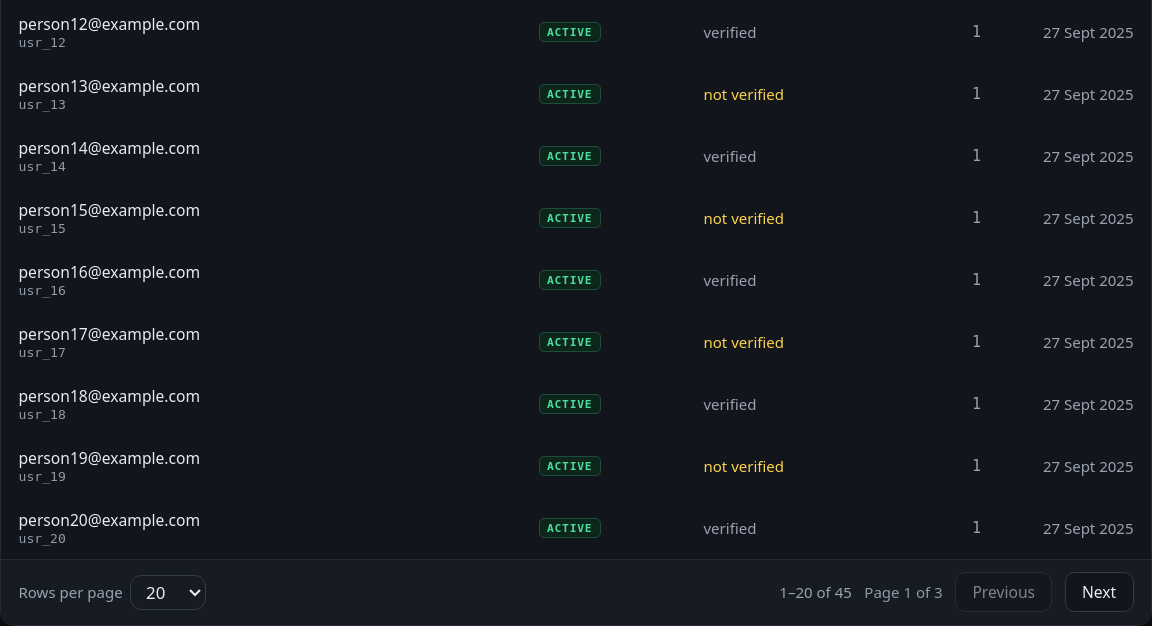
the user list › pages forward and back, and stops at the ends
(page scrolled)
Expected: the button "Previous" is disabled, x1=955 y1=572 x2=1052 y2=612
Click the button "Next".
click(1099, 592)  # box x1=1065 y1=572 x2=1134 y2=612
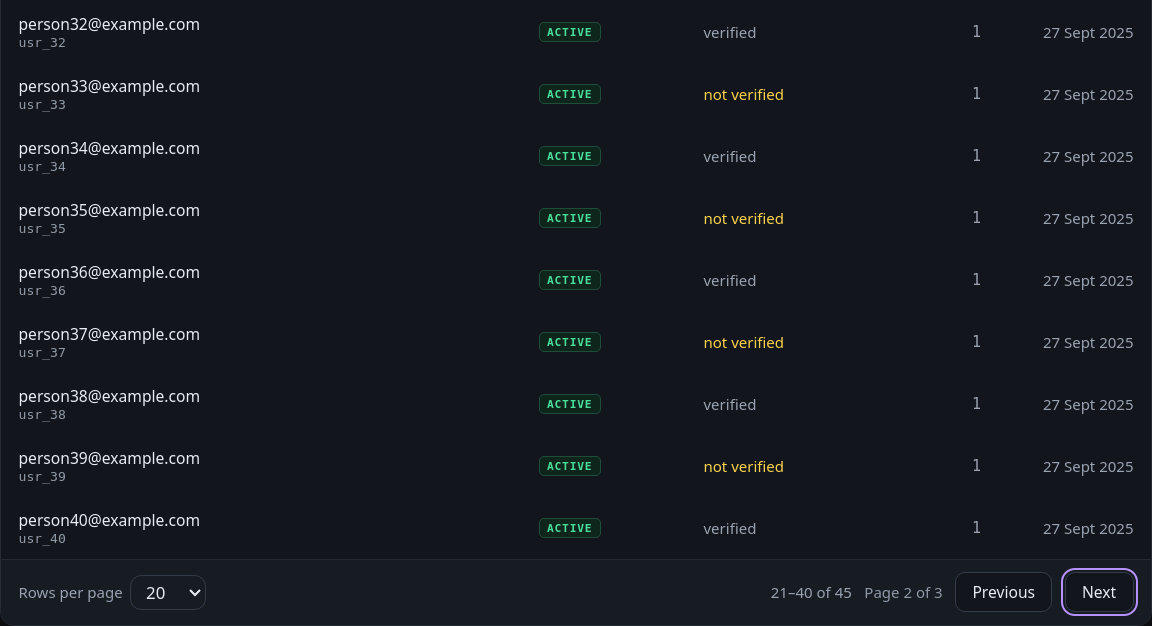
Click the button "Next".
click(1099, 592)  # box x1=1065 y1=572 x2=1134 y2=612
(page scrolled)
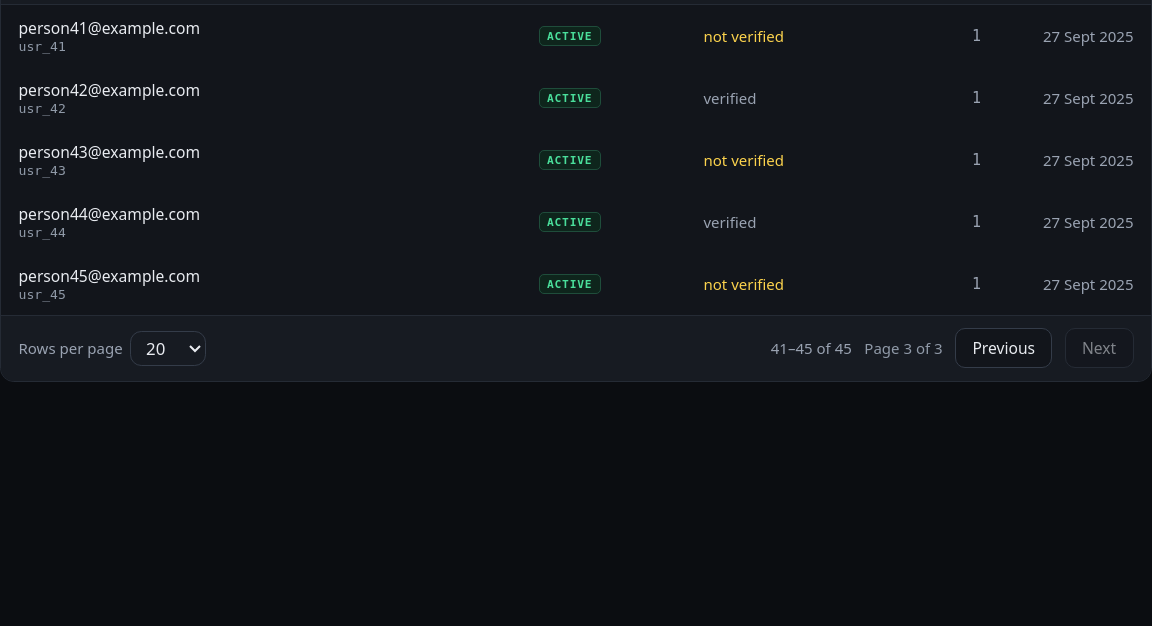
Result: the text "41–45 of 45" is shown at x1=771 y1=338 x2=852 y2=358
Result: the button "Next" is disabled at x1=1065 y1=328 x2=1134 y2=368
Click the button "Previous".
click(1004, 348)  # box x1=955 y1=328 x2=1052 y2=368
(page scrolled)
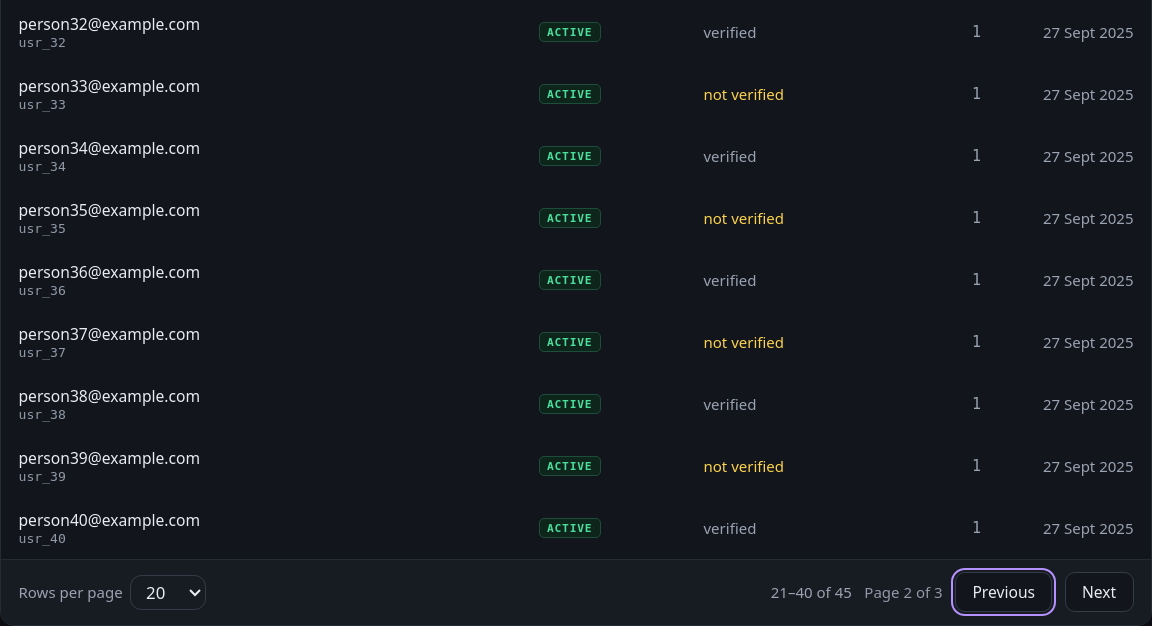
Result: the text "21–40 of 45" is shown at x1=771 y1=582 x2=852 y2=602
